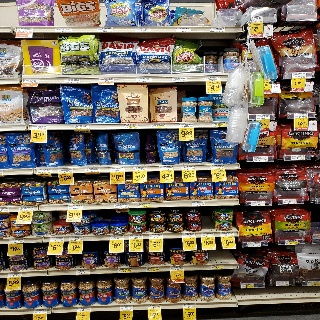All PRICE TAGS: (64, 78, 81, 83), (254, 156, 268, 162), (56, 28, 72, 33), (97, 28, 113, 33), (210, 27, 226, 32), (58, 168, 73, 173), (37, 168, 52, 173), (212, 122, 227, 127), (136, 77, 151, 82), (172, 77, 187, 82), (32, 125, 47, 130), (170, 266, 184, 271), (220, 232, 234, 237), (50, 237, 64, 242), (114, 203, 128, 208), (68, 205, 82, 210), (133, 166, 147, 171), (110, 167, 124, 172), (256, 114, 270, 119), (19, 207, 33, 212), (251, 201, 265, 206), (252, 17, 263, 23), (120, 305, 133, 310), (146, 267, 159, 272), (118, 268, 131, 273), (149, 234, 162, 239), (192, 201, 205, 206), (182, 165, 195, 170), (248, 242, 261, 247), (10, 239, 23, 244), (17, 28, 33, 32), (135, 28, 151, 32), (176, 28, 192, 32), (23, 79, 39, 83), (85, 168, 100, 172), (179, 123, 194, 127), (99, 78, 114, 82), (205, 77, 220, 81), (74, 125, 89, 129), (69, 237, 83, 241), (137, 203, 151, 207), (152, 124, 166, 128), (124, 124, 138, 128), (148, 305, 161, 309), (78, 307, 91, 311), (76, 270, 89, 274), (201, 233, 214, 237), (182, 233, 195, 237), (130, 235, 143, 239), (110, 236, 123, 240), (211, 165, 224, 169), (160, 166, 173, 170), (241, 284, 254, 288), (34, 309, 47, 313), (8, 273, 21, 277), (183, 304, 195, 308), (211, 265, 223, 269), (1, 208, 9, 212)
